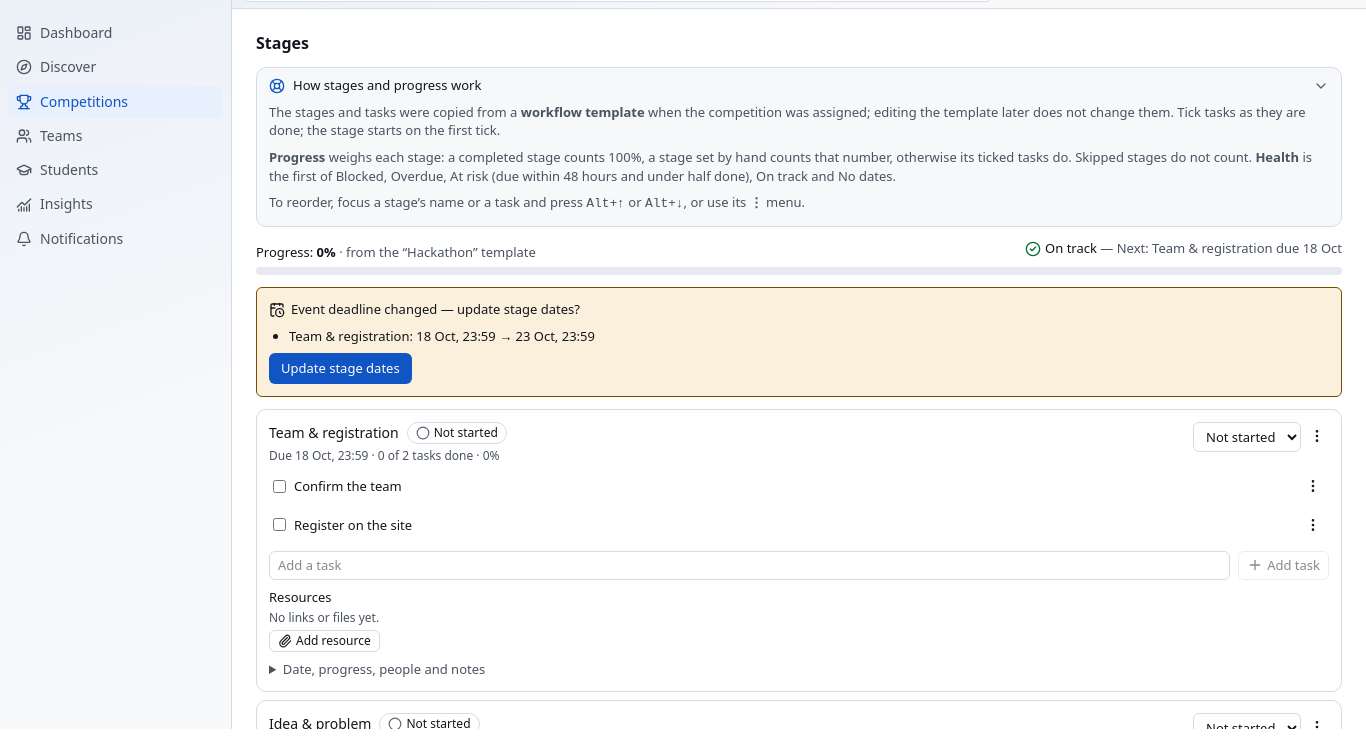
the workflow on the Competition page › the R100 banner offers the new dates and applies them only on request
(page scrolled)
Expected: the text "Event deadline changed — update stage dates?" is shown, top-left (269, 300), bottom-right (580, 318)
Click the button "Update stage dates".
click(340, 369)  # box top-left (269, 353), bottom-right (412, 384)
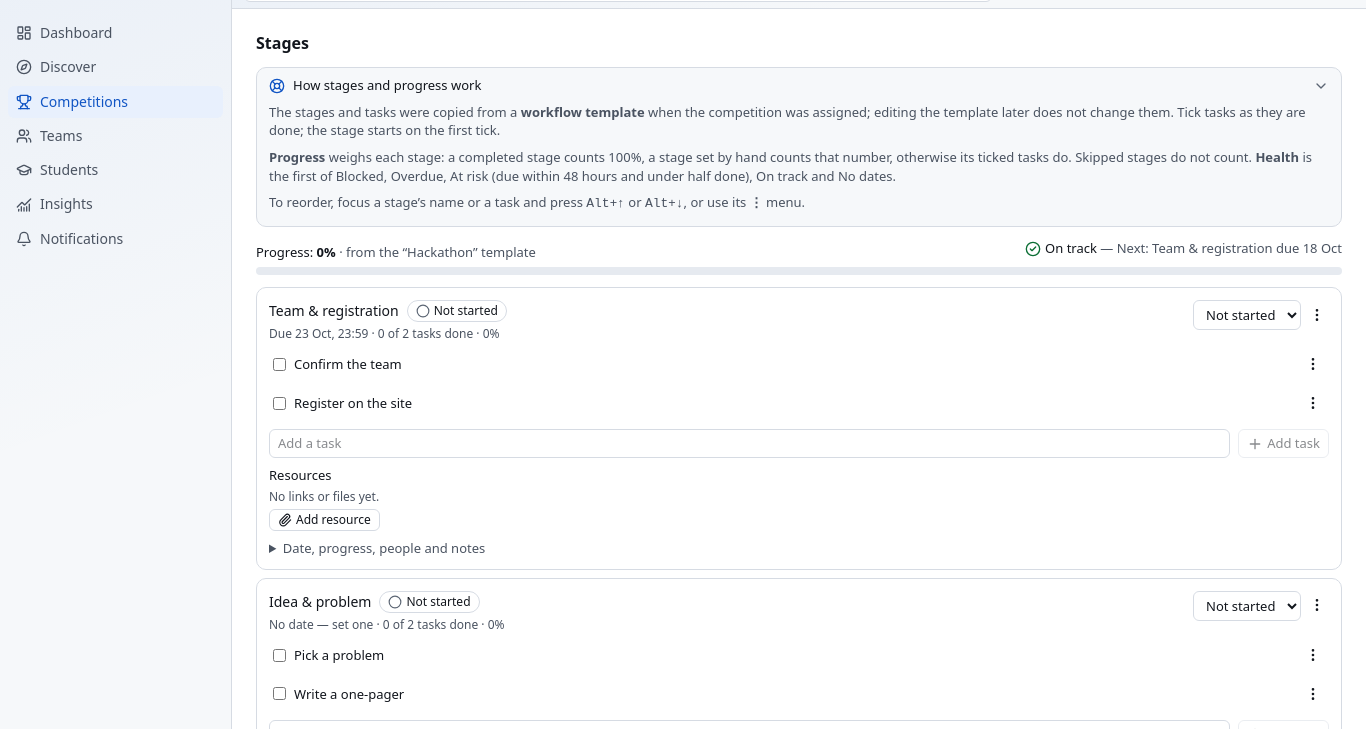
Expected: the text "Event deadline changed — update stage dates?" is gone
